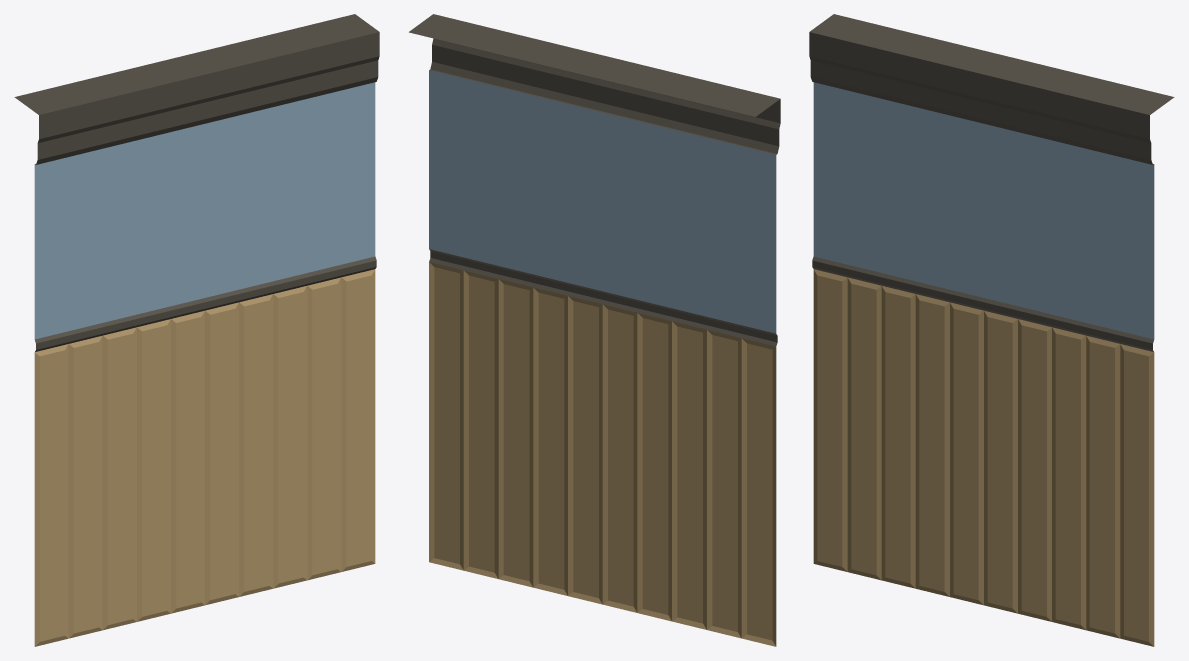
Rendered from Kitchen_Wall_1.fbx.
The picture shows the model from 3 angles, left to right: view 1: azimuth 30°, elevation 25°; view 2: azimuth 150°, elevation 25°; view 3: azimuth 330°, elevation 25°; orthographic projection.
Parts seen in each view (by area): view 1: Kitchen_Wall_1; view 2: Kitchen_Wall_1; view 3: Kitchen_Wall_1.
Part boxes in pixels (x1,y1,x2,y2): Kitchen_Wall_1: (14,14,379,646); Kitchen_Wall_1: (409,14,780,646); Kitchen_Wall_1: (809,14,1174,646).
Bounding box in the file's own units: 200 × 300 × 25.
